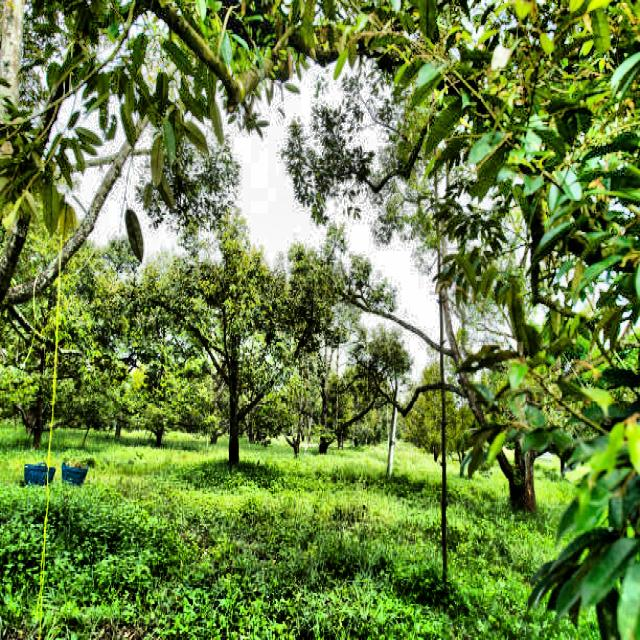arvore: (493, 335, 542, 519), (220, 332, 246, 488)
